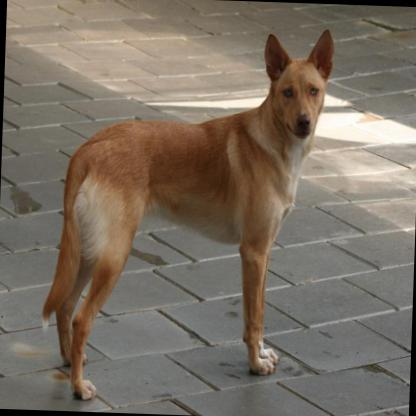dingo: (37, 13, 337, 408)
